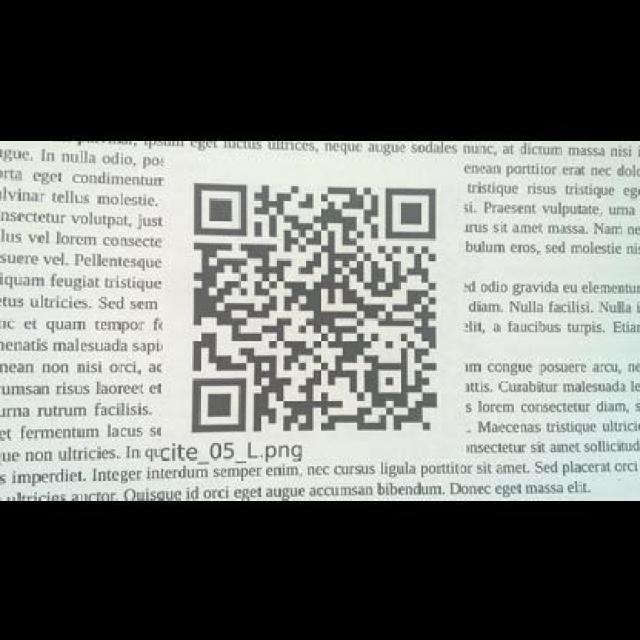QRCode: (186, 173, 450, 445)
